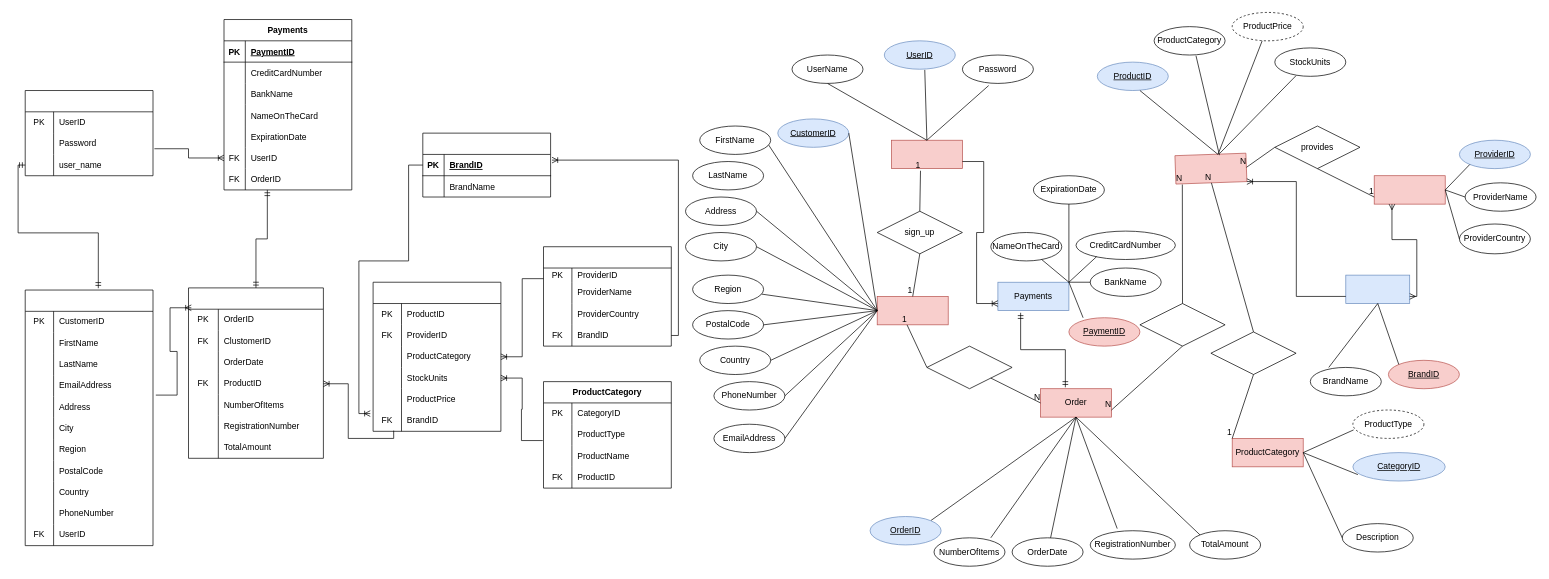
This 1549x579 diagram has some shape labels left out. The box of each missing label's shape, as (x1, y1, x2, y2) in pixels:
Brand: (1345, 274, 1410, 304)
Brands: (422, 132, 551, 197)
Customer: (876, 296, 948, 325)
Customers: (24, 289, 153, 546)
makes: (1139, 303, 1225, 346)
Ordrers: (188, 287, 323, 458)
Product: (1174, 153, 1247, 184)
Products: (372, 282, 501, 431)
Provider: (1373, 175, 1445, 204)
Providers: (543, 246, 671, 346)
puts_in: (926, 345, 1012, 389)
shows: (1210, 331, 1296, 375)
User: (891, 140, 962, 169)
Users: (24, 90, 153, 176)
